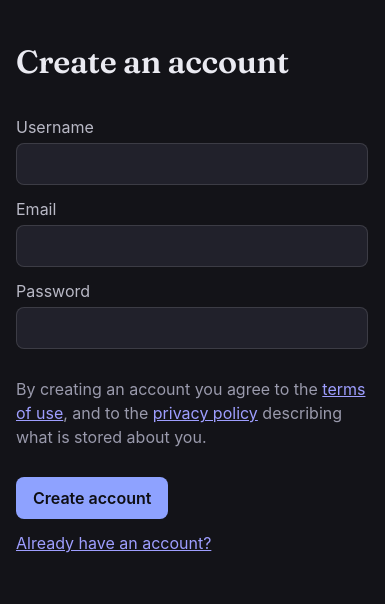
Scenario: RegisterPage › surfaces a taken email
Check: the heading "Create an account" is shown, box [16, 42, 289, 82]
Type "newcomer" into the field labelled "Username" at (192, 164), box [16, 143, 368, 185]
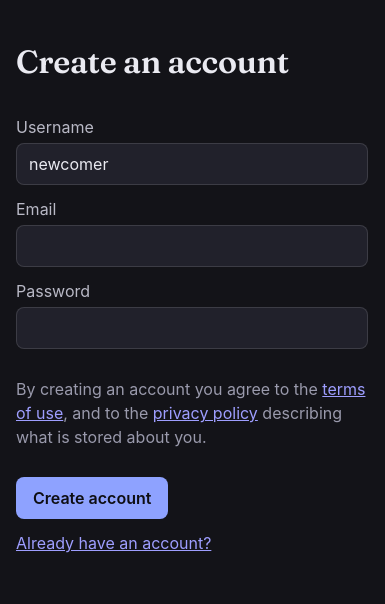
Type "taken@example.com" into the field labelled "Email" at (192, 246), box [16, 225, 368, 267]
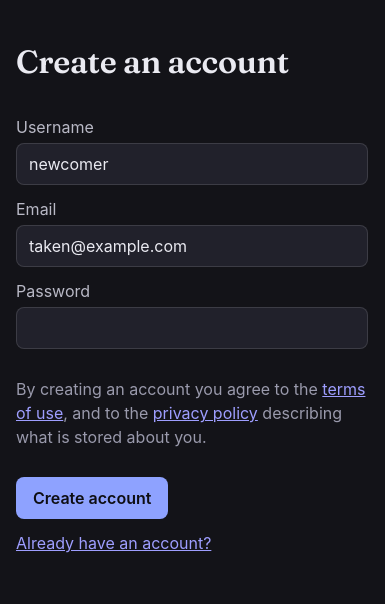
Type "pw-123456" into the password field labelled "Password" at (192, 328), box [16, 307, 368, 349]
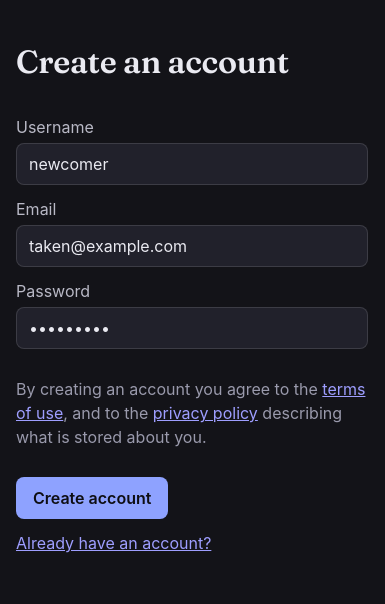
Click the button "Create account" at (92, 498), box [16, 477, 168, 519]
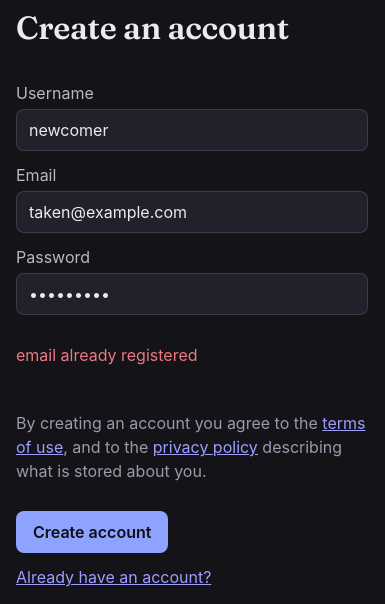
Check: the message shows "already registered", box [16, 345, 198, 365]
